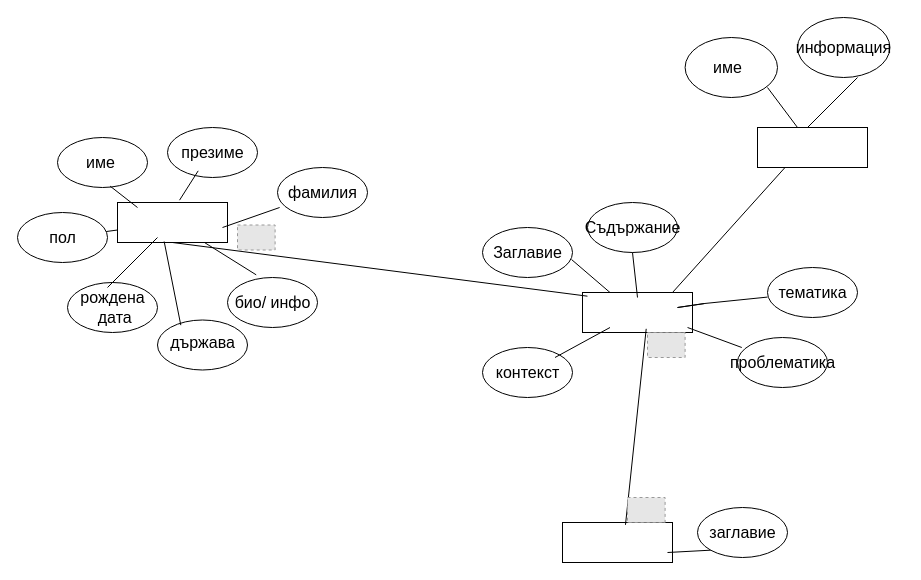
Some shapes in this 921 by 580 pixel diagram are drawn without their labels. Grey dashed boxes stand in for pictures. The shapes that lost their labels are listed below. From the top down, each one's centre as x and y in pixels, then its label:
At (812,147): "Ц. образи".
At (172,222): "автор".
At (637,312): "произведение".
At (617,542): "тема".
